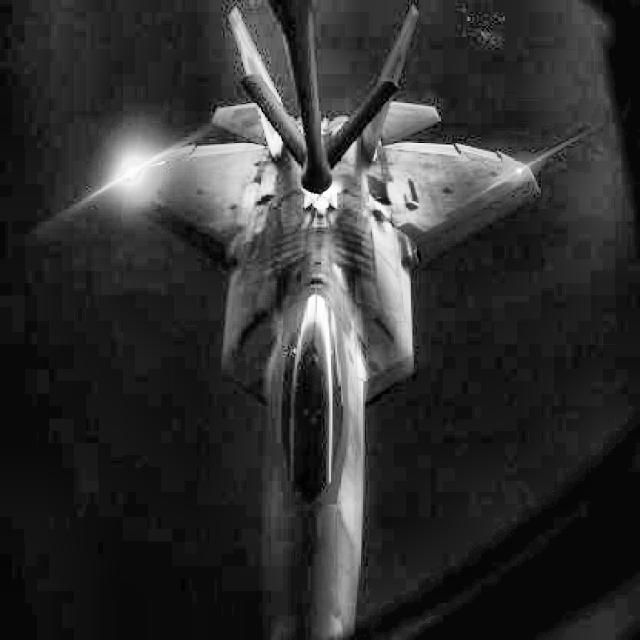F22: (108, 4, 540, 639)
